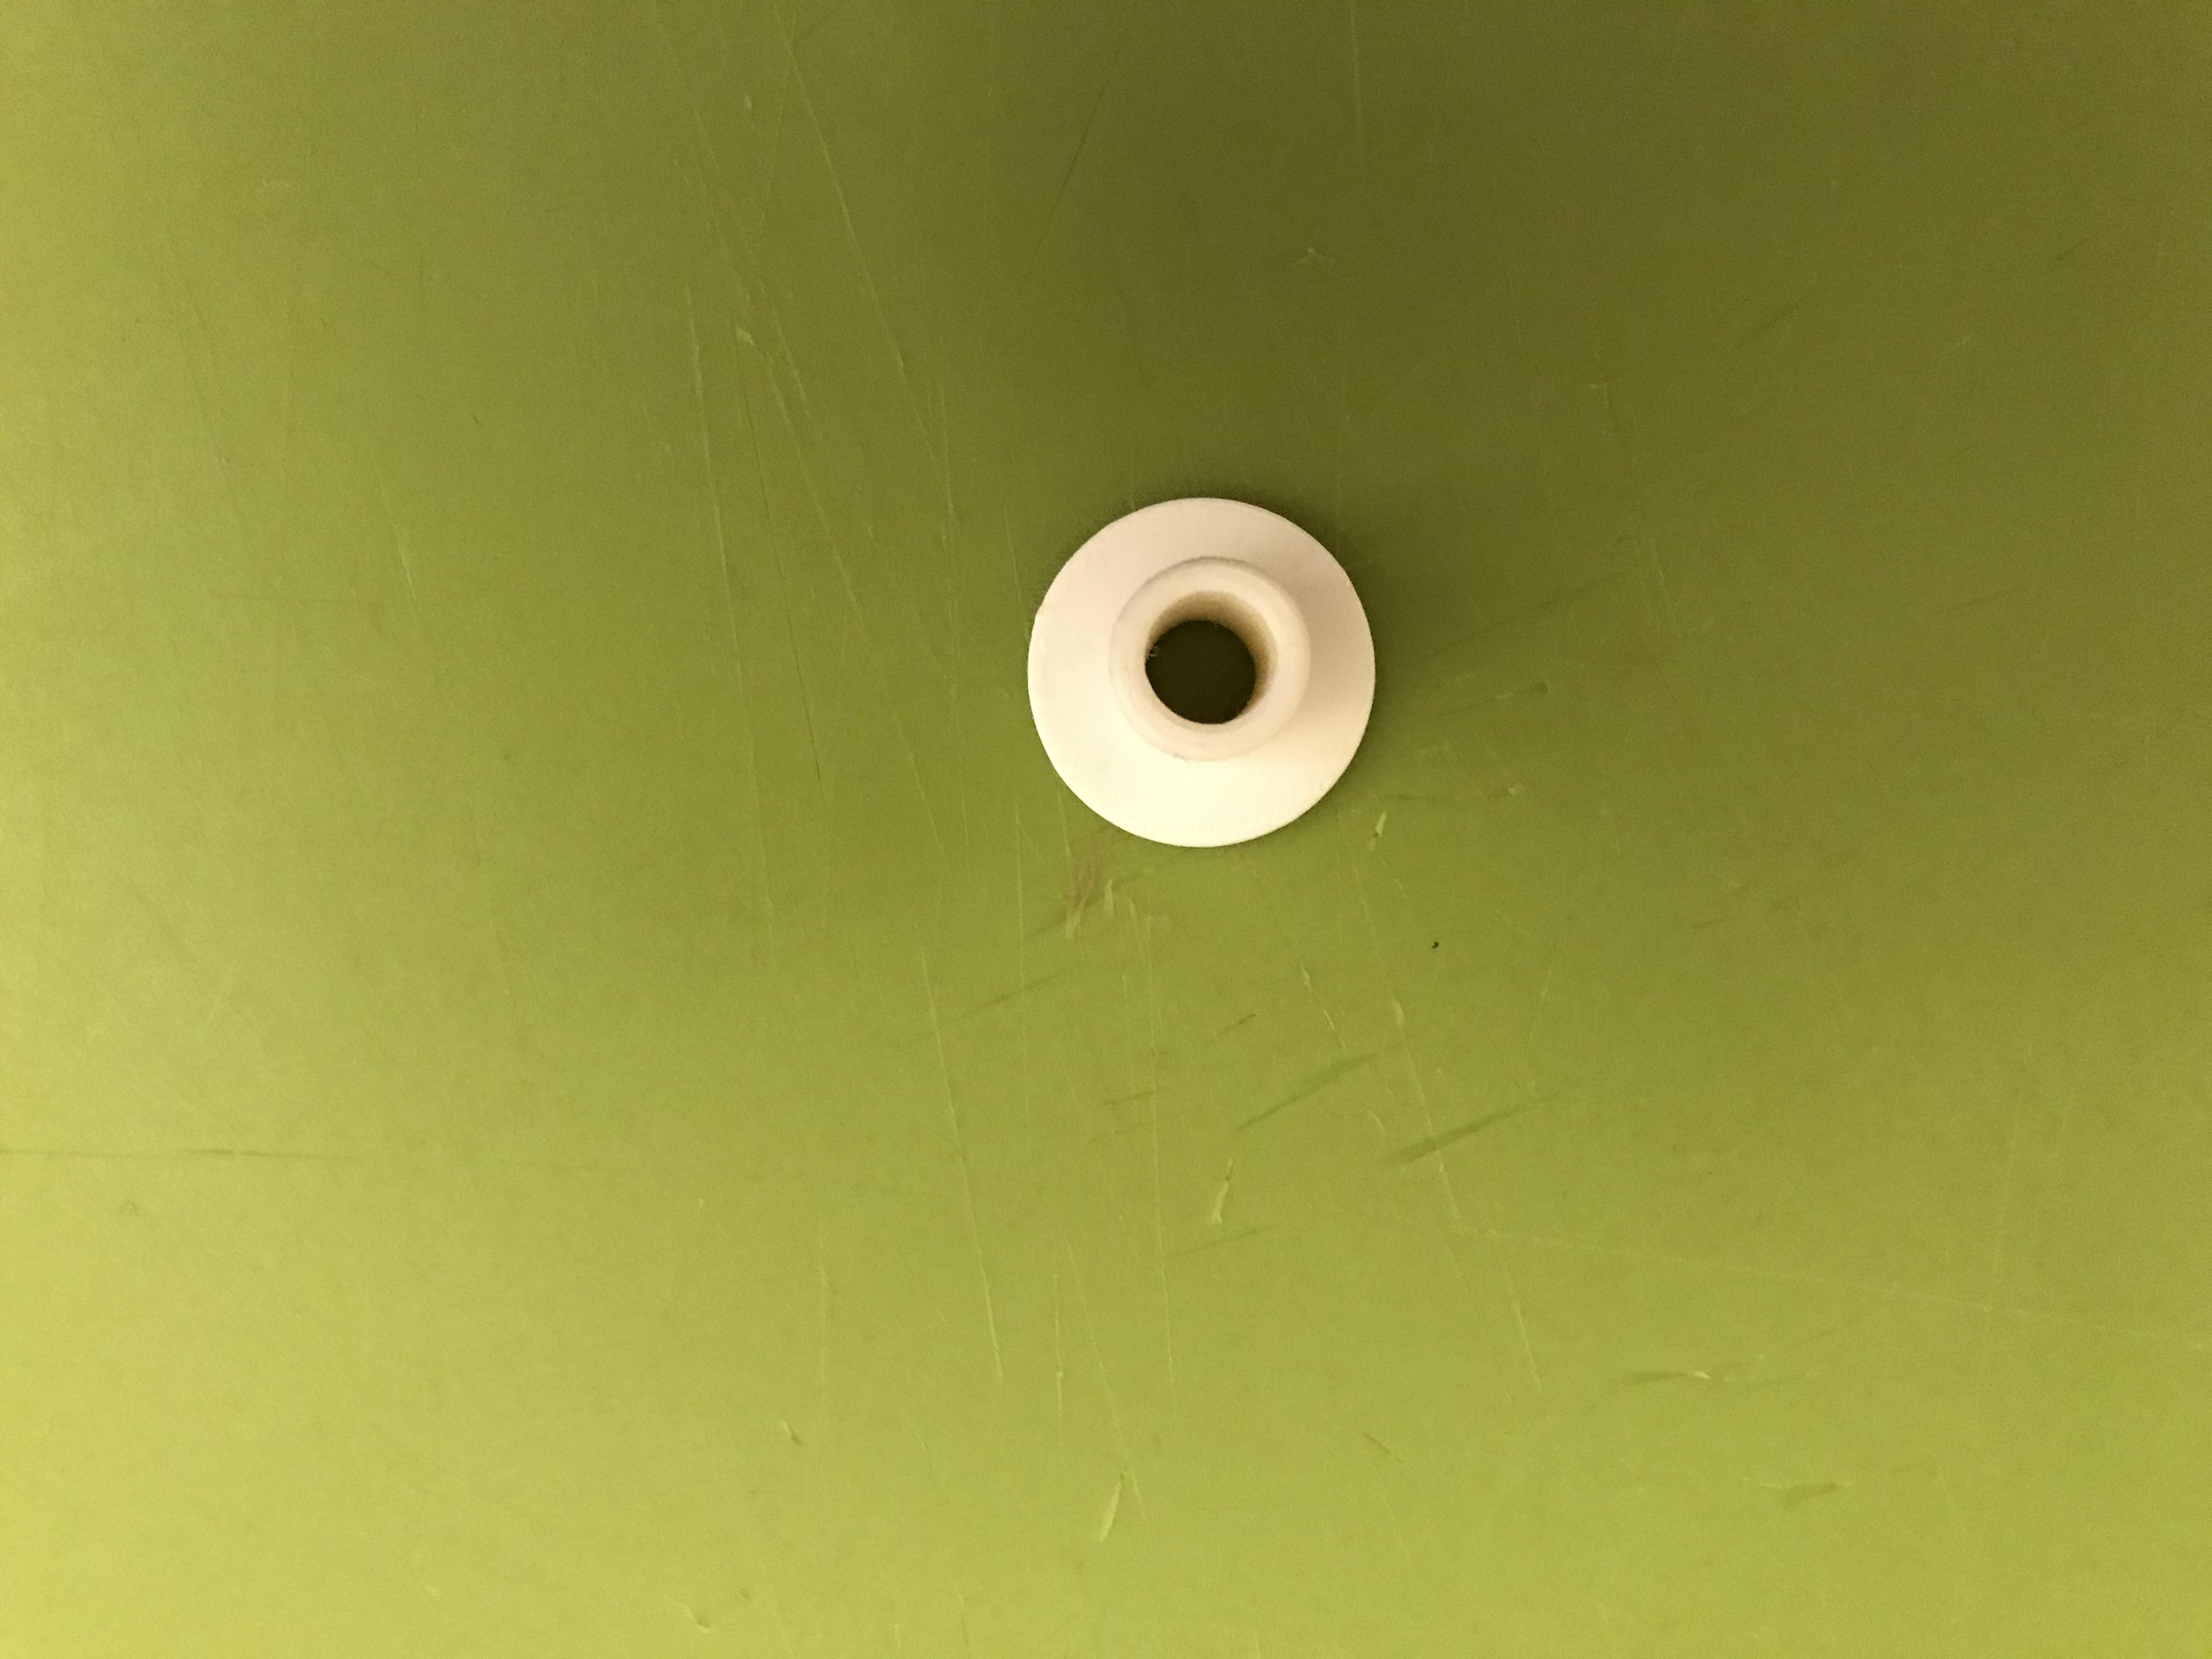White Cone: (1015, 500, 1395, 850)
